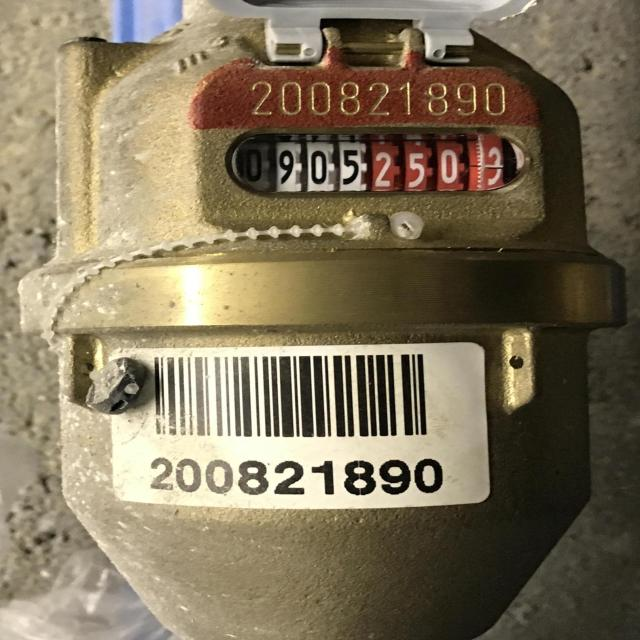gaz_meter: (165, 29, 573, 256)
indication: (264, 140, 507, 196)
